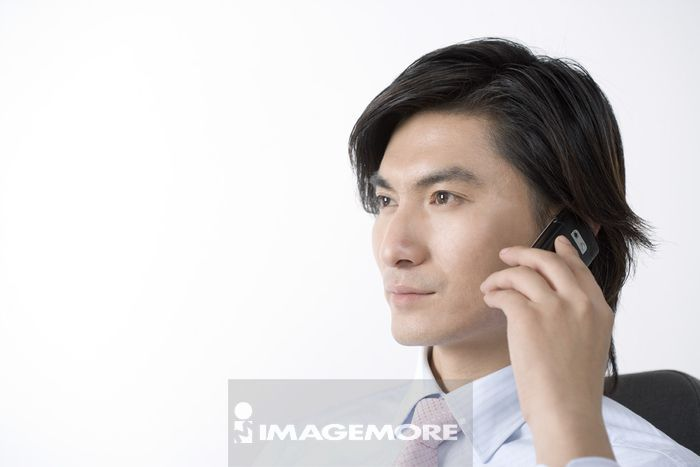talk: (371, 163, 612, 447)
